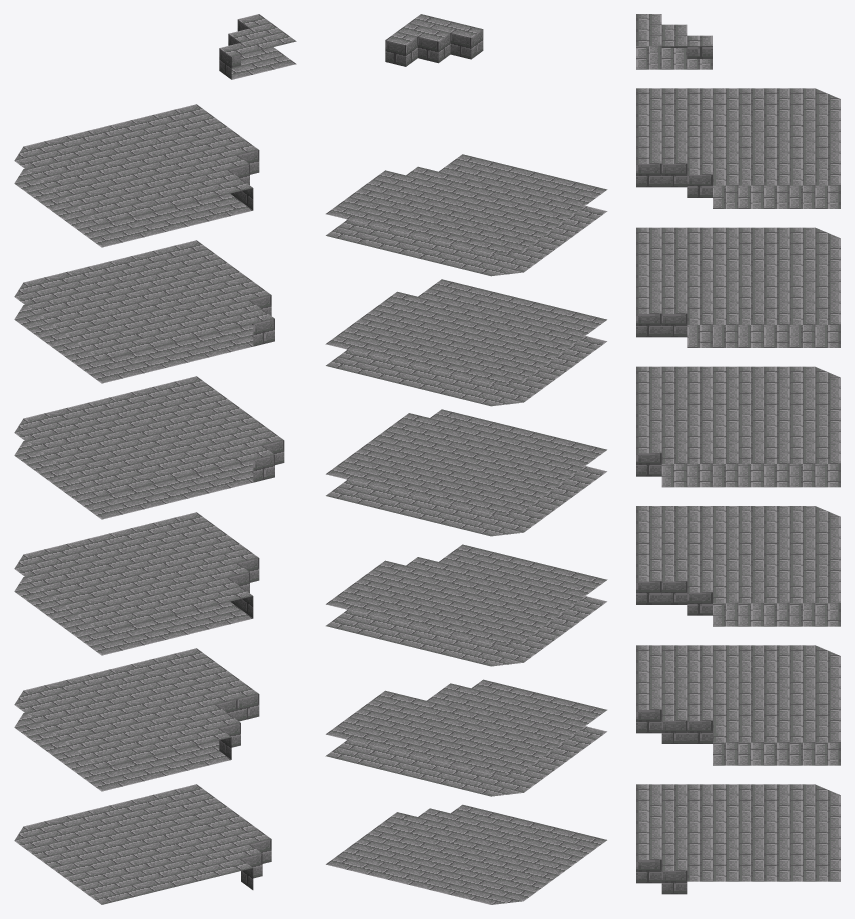
File: Stone_Bricks_Chunk_37_2.fbx
3 views of the same model, side by side, from view 1: azimuth 30°, elevation 25°; view 2: azimuth 150°, elevation 25°; view 3: azimuth 270°, elevation 25° (orthographic). The views are drawn at different scales.
Parts seen in each view (by area): view 1: Stone_Bricks_Chunk_37_2; view 2: Stone_Bricks_Chunk_37_2; view 3: Stone_Bricks_Chunk_37_2.
Boxes of the visible parts, x1,y1,x2,y2 form: Stone_Bricks_Chunk_37_2: (14, 14, 296, 904); Stone_Bricks_Chunk_37_2: (325, 14, 607, 904); Stone_Bricks_Chunk_37_2: (636, 14, 840, 894).
Size of the model in its own units: 900 by 3700 by 800.
1 material, 1 textured.
